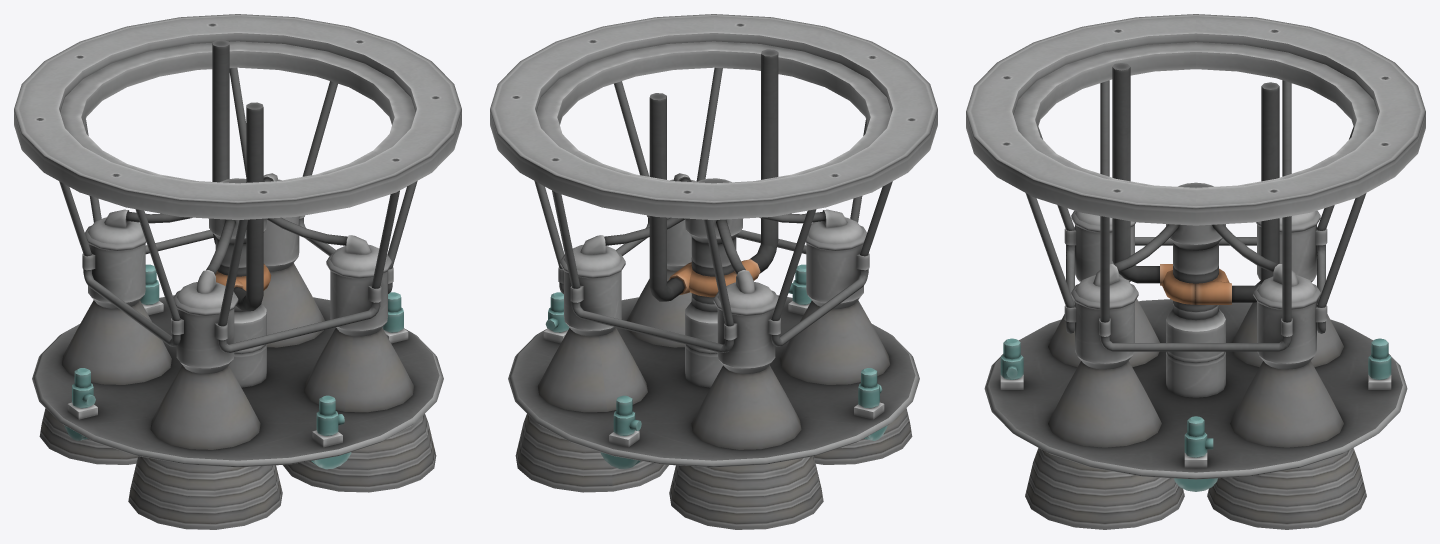
File: TLV_2_Engine_1_E.obj
3 views of the same model, side by side, from view 1: azimuth 30°, elevation 25°; view 2: azimuth 150°, elevation 25°; view 3: azimuth 270°, elevation 25° (orthographic). The views are drawn at different scales.
Parts seen in each view (by area): view 1: TLV_2_Engine_1_E, TLV_2_Engine_1_E_Nozzles; view 2: TLV_2_Engine_1_E, TLV_2_Engine_1_E_Nozzles; view 3: TLV_2_Engine_1_E, TLV_2_Engine_1_E_Nozzles.
Part boxes in pixels (<box>): TLV_2_Engine_1_E: <box>14,14,461,469</box>; TLV_2_Engine_1_E_Nozzles: <box>39,263,436,529</box>; TLV_2_Engine_1_E: <box>490,14,937,469</box>; TLV_2_Engine_1_E_Nozzles: <box>515,269,912,529</box>; TLV_2_Engine_1_E: <box>966,14,1425,491</box>; TLV_2_Engine_1_E_Nozzles: <box>1025,298,1366,529</box>.
Size of the model in its own units: 1.5 by 1.37 by 1.5.
